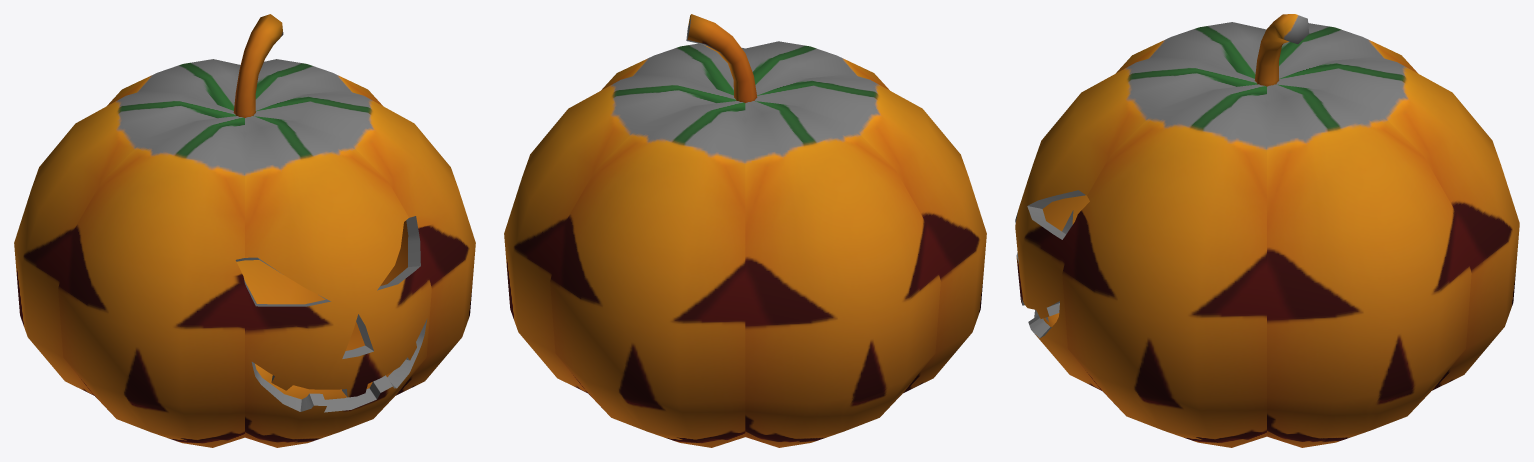
Rendered from Pumpkin_03.fbx.
3 views of the same model, side by side, from view 1: azimuth 30°, elevation 25°; view 2: azimuth 150°, elevation 25°; view 3: azimuth 270°, elevation 25° (orthographic). The views are drawn at different scales.
Visible parts, largest first — view 1: Pumpkin_03; view 2: Pumpkin_03; view 3: Pumpkin_03.
Boxes of the visible parts, x1,y1,x2,y2 form: Pumpkin_03: [14, 14, 475, 447]; Pumpkin_03: [504, 14, 986, 447]; Pumpkin_03: [1015, 14, 1519, 447].
Size of the model in its own units: 80.89 by 75.31 by 84.63.
